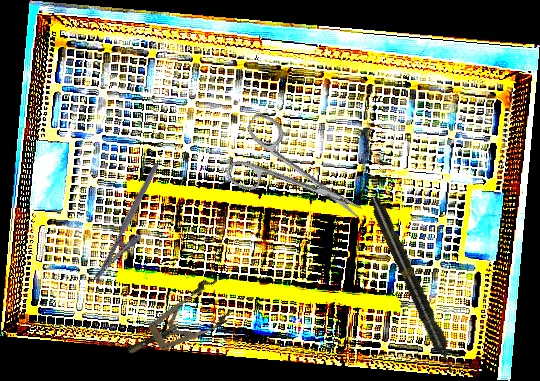Handpiece: (365, 193, 460, 377)
Iris Scissors: (218, 109, 378, 248)
Needle Holder: (92, 162, 176, 290)
Speculum: (116, 274, 238, 372)
